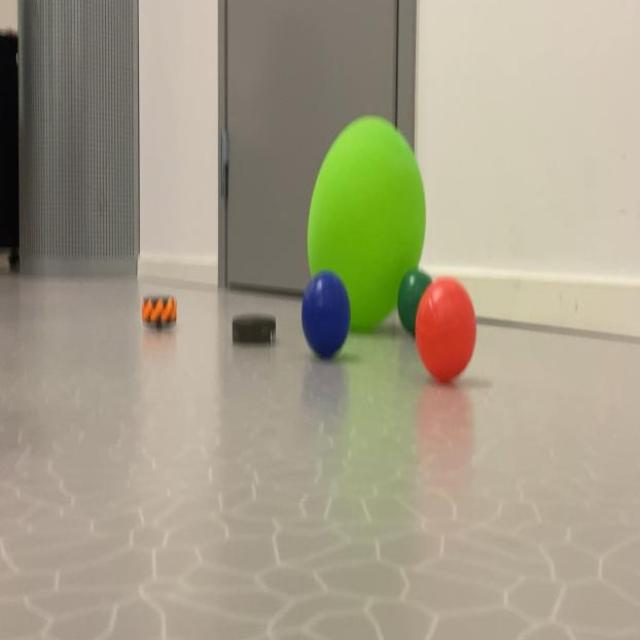blue ball: (301, 280, 349, 357)
green ball: (403, 273, 422, 311)
red ball: (424, 282, 483, 388)
